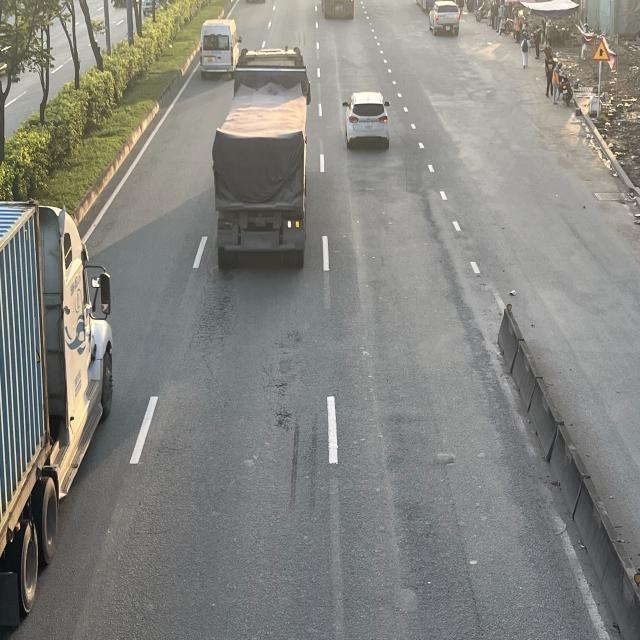car: (342, 93, 391, 152)
coach: (427, 0, 461, 34)
container: (0, 196, 109, 632), (212, 49, 314, 270)
van: (200, 22, 242, 78)
